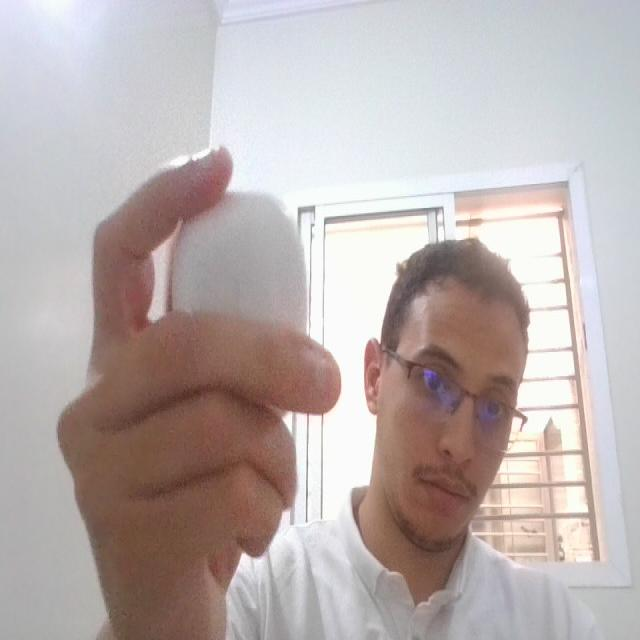airpods: (161, 180, 313, 394)
